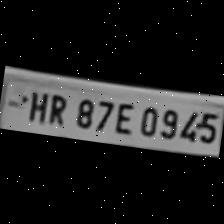0: (134, 100, 162, 136)
4: (177, 103, 200, 142)
5: (193, 106, 219, 144)
7: (91, 95, 114, 132)
8: (68, 92, 98, 130)
9: (155, 102, 180, 140)
E: (110, 96, 137, 136)
H: (23, 86, 50, 124)
R: (42, 88, 70, 126)
